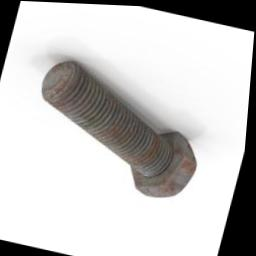Non-corroded-Bolts: (42, 59, 200, 196)
